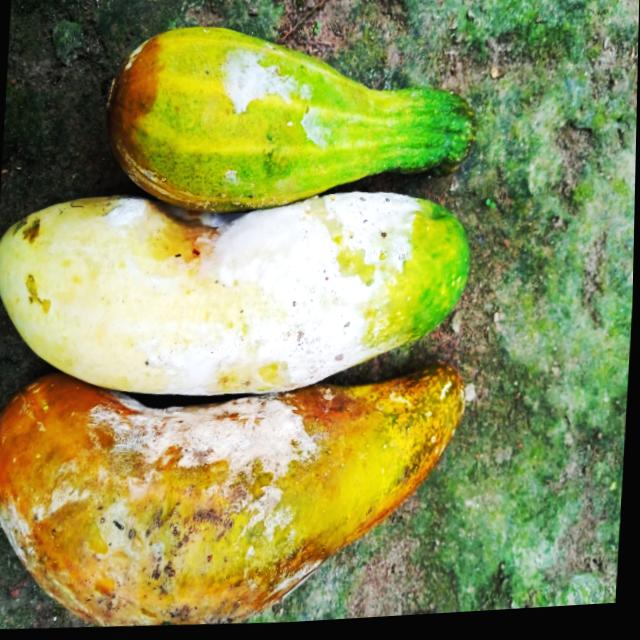Pythium-Fruit-Rot: (0, 382, 341, 637), (88, 182, 429, 414), (193, 38, 337, 200)
